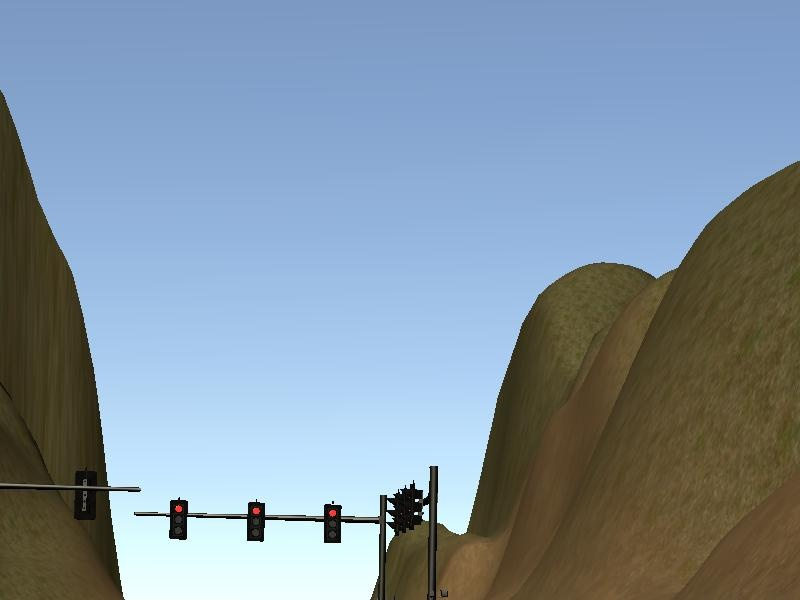red: (246, 500, 266, 544), (169, 497, 187, 541), (324, 502, 342, 544)
